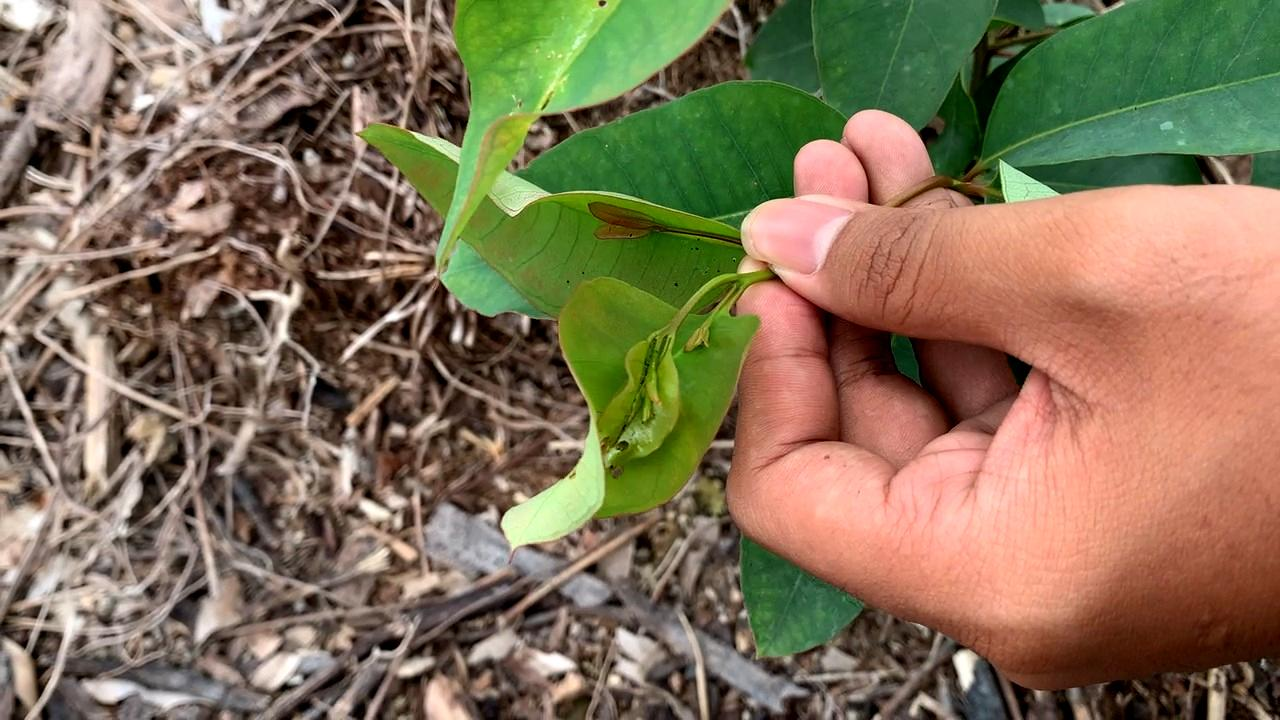Leaf Roller - Leaf: (468, 273, 776, 579)
